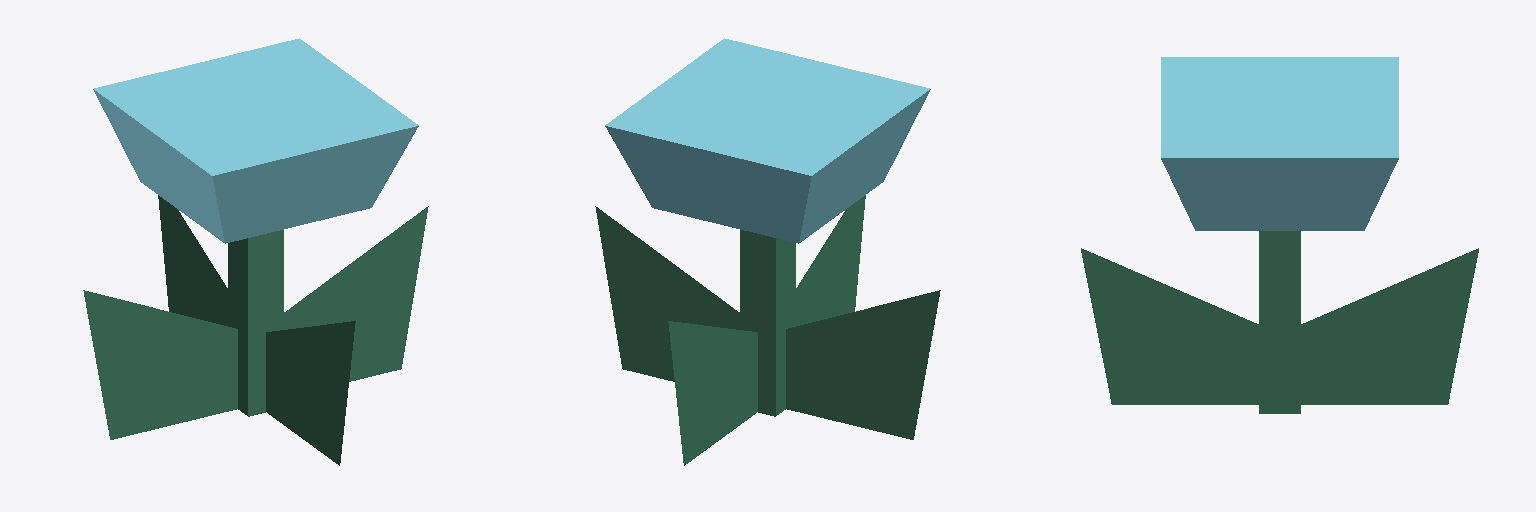
The picture shows the model from 3 angles: view 1: azimuth 30°, elevation 25°; view 2: azimuth 150°, elevation 25°; view 3: azimuth 270°, elevation 25°; orthographic projection.
Parts seen in each view (by area): view 1: Mesh3 Flower_Yellow Model, Mesh4 Flower_Yellow Model, Mesh1 Flower_Yellow Model, Mesh2 Flower_Yellow Model, Mesh5 Flower_Yellow Model; view 2: Mesh3 Flower_Yellow Model, Mesh4 Flower_Yellow Model, Mesh1 Flower_Yellow Model, Mesh5 Flower_Yellow Model, Mesh2 Flower_Yellow Model; view 3: Mesh3 Flower_Yellow Model, Mesh2 Flower_Yellow Model, Mesh5 Flower_Yellow Model.
Part boxes in pixels (bbox=[...]): Mesh3 Flower_Yellow Model: bbox=[93, 38, 418, 416]; Mesh4 Flower_Yellow Model: bbox=[83, 290, 237, 439]; Mesh1 Flower_Yellow Model: bbox=[284, 206, 428, 381]; Mesh2 Flower_Yellow Model: bbox=[266, 321, 355, 465]; Mesh5 Flower_Yellow Model: bbox=[158, 195, 227, 325]; Mesh3 Flower_Yellow Model: bbox=[605, 38, 930, 416]; Mesh4 Flower_Yellow Model: bbox=[786, 290, 940, 439]; Mesh1 Flower_Yellow Model: bbox=[595, 206, 739, 381]; Mesh5 Flower_Yellow Model: bbox=[668, 321, 757, 465]; Mesh2 Flower_Yellow Model: bbox=[796, 195, 865, 325]; Mesh3 Flower_Yellow Model: bbox=[1161, 57, 1398, 413]; Mesh2 Flower_Yellow Model: bbox=[1081, 248, 1258, 404]; Mesh5 Flower_Yellow Model: bbox=[1301, 248, 1478, 404].
Size of the model in its own units: 0.4859 by 0.4 by 0.4859.
Materials: 1 (1 with a texture image).